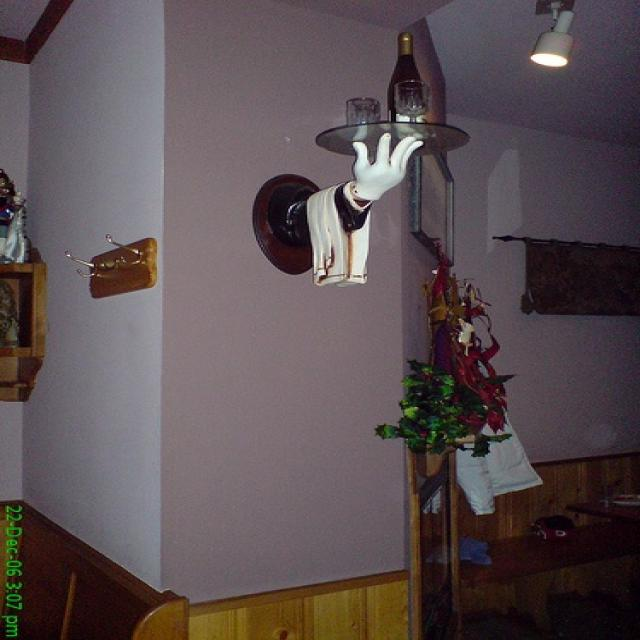bottle: (386, 31, 434, 142)
